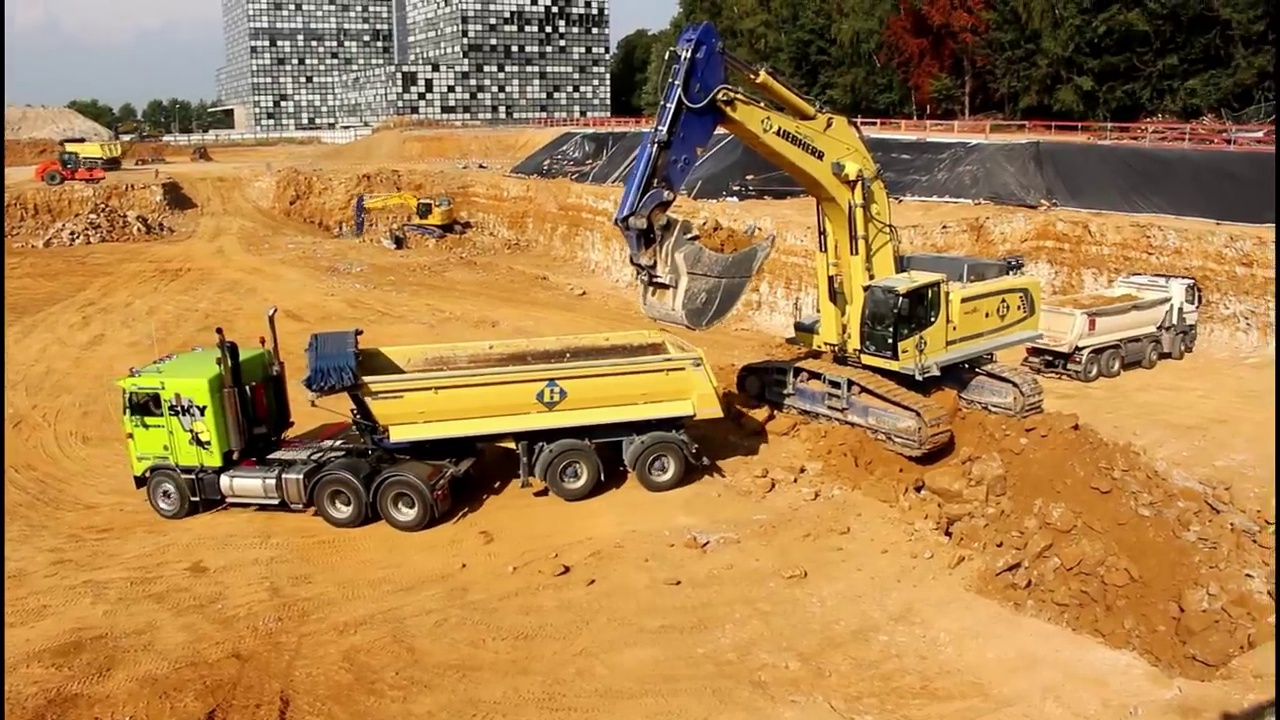compactor: (33, 151, 109, 195)
excavator: (609, 14, 1052, 462), (340, 182, 476, 252), (115, 117, 168, 147)
truck: (111, 298, 732, 540), (1021, 267, 1206, 382), (53, 131, 128, 167)
